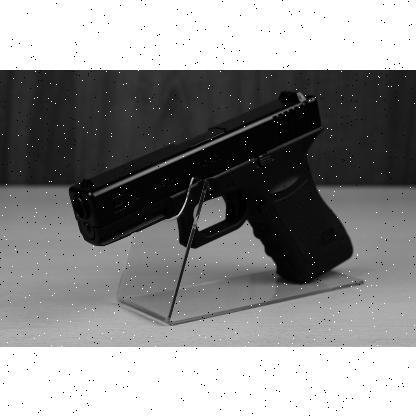gun: (67, 89, 352, 284)
